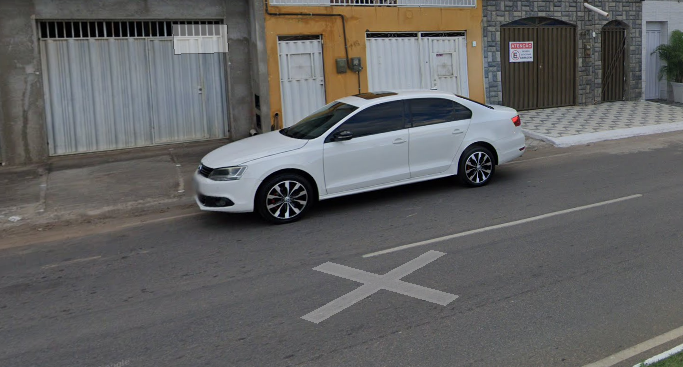car: (186, 85, 529, 227)
